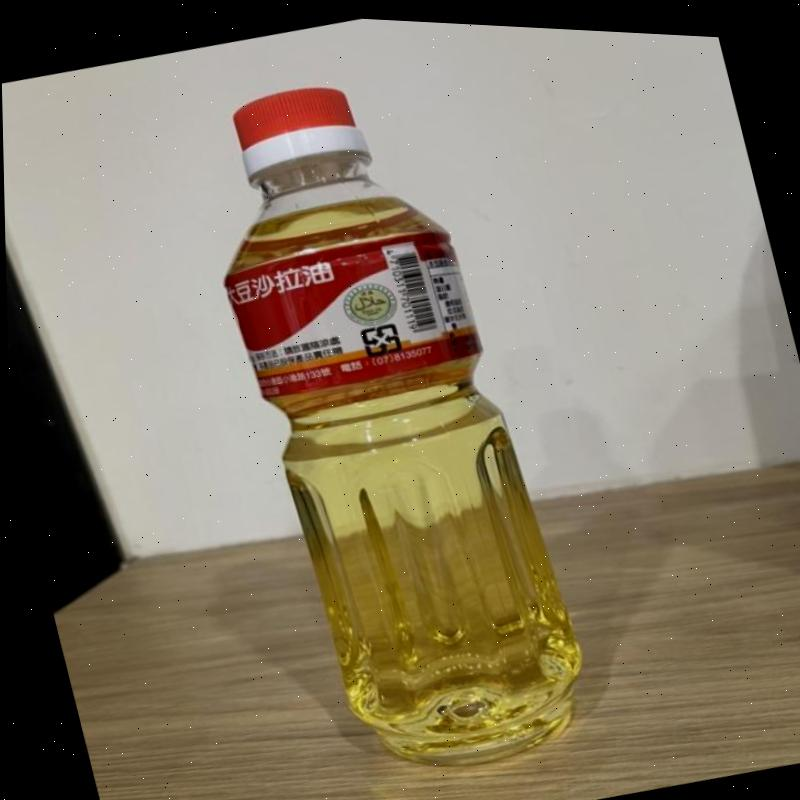botella: (175, 43, 609, 795)
